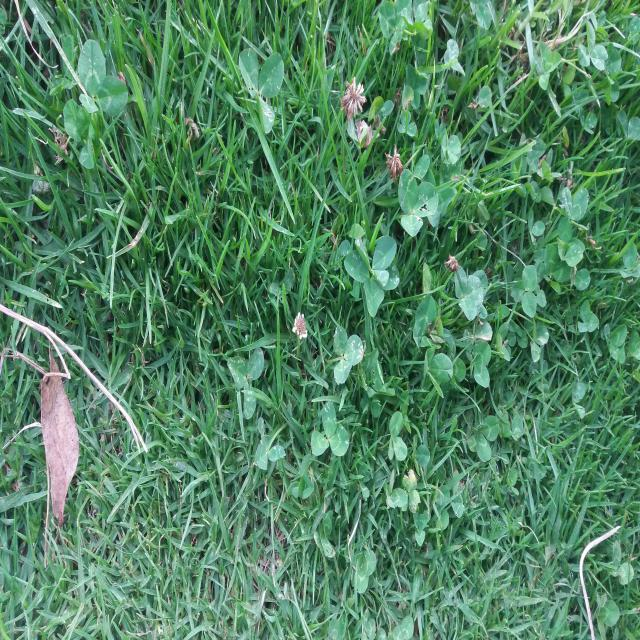Four Leaf Clover: (442, 128, 460, 164)
